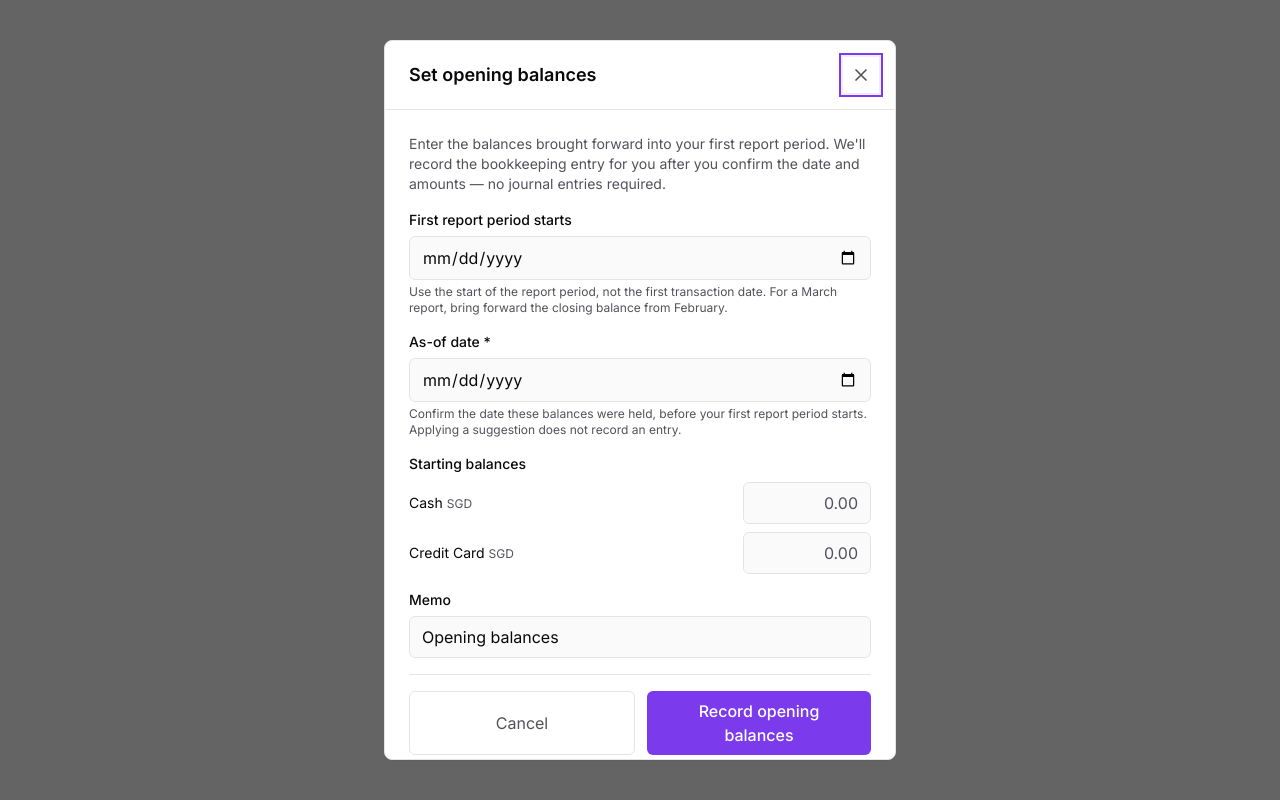
Test: OpeningBalanceModal (#949 / AC2.15.8) › AC2.15.8 blocks submission when the as-of date is cleared
The image size is (1280, 800).
Type "100" into the field named "Opening balance for Cash". click: [807, 503]
box: x1=743 y1=482 x2=871 y2=524
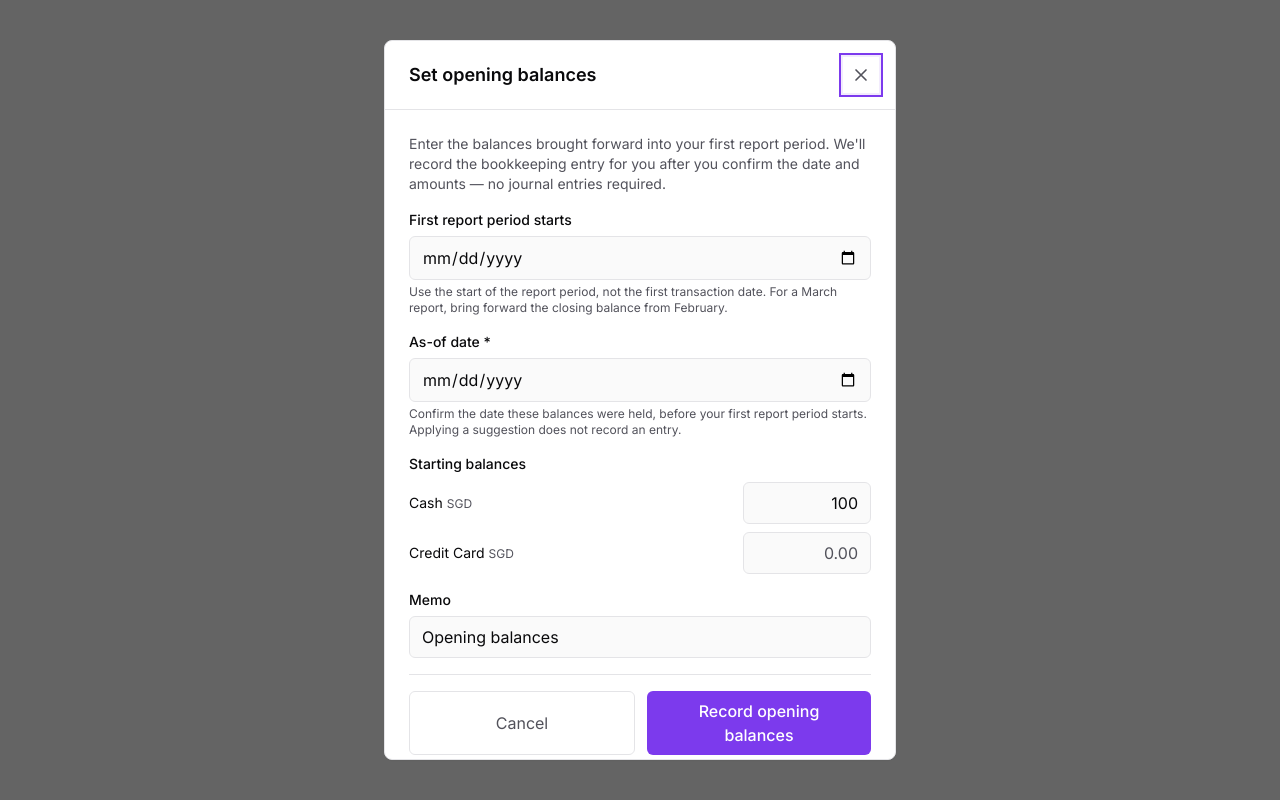
Click the button "Record opening balances". click: [759, 723]
box: x1=647 y1=691 x2=871 y2=755
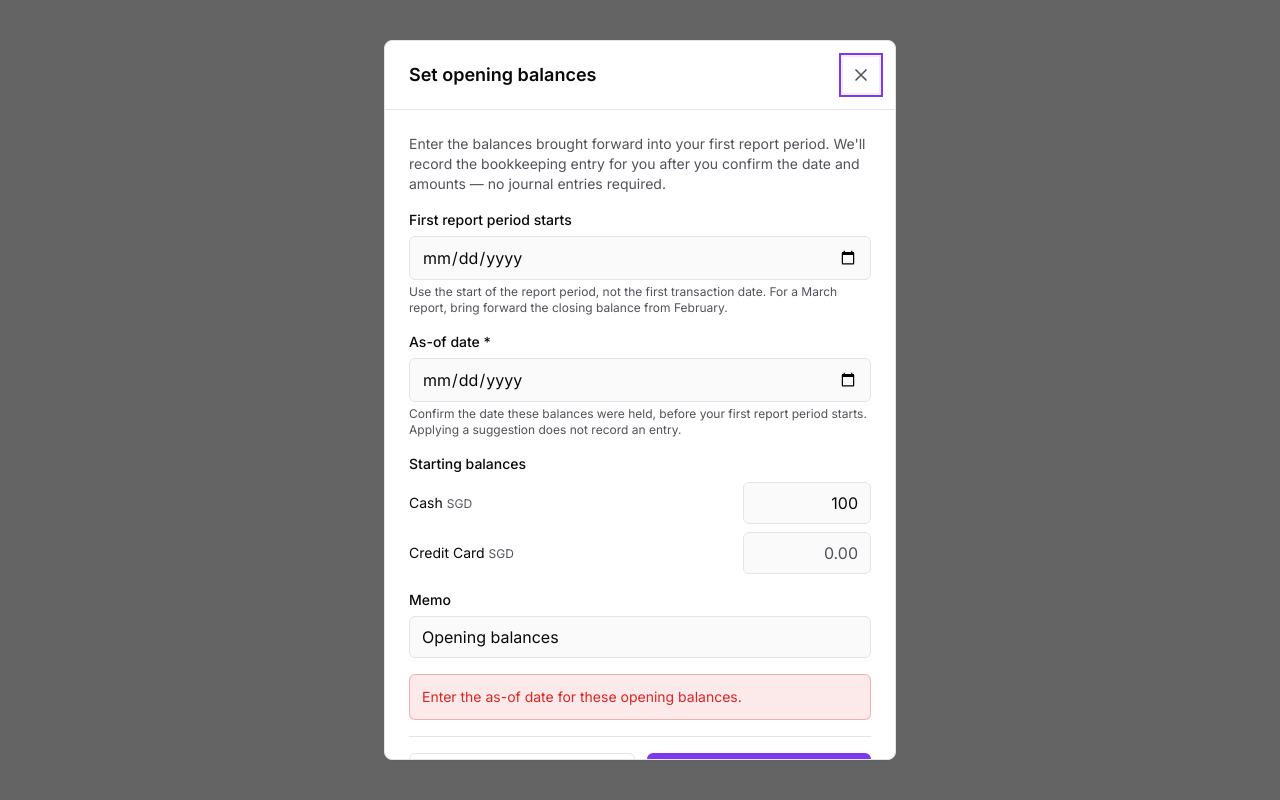
Expected: the text "Enter the as-of date for these opening balances." is shown, x1=409 y1=674 x2=871 y2=720
